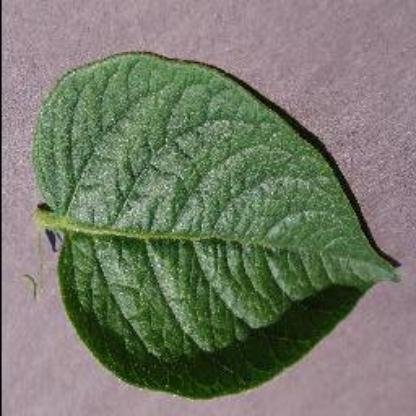Healthy-plant: (21, 44, 416, 404)
